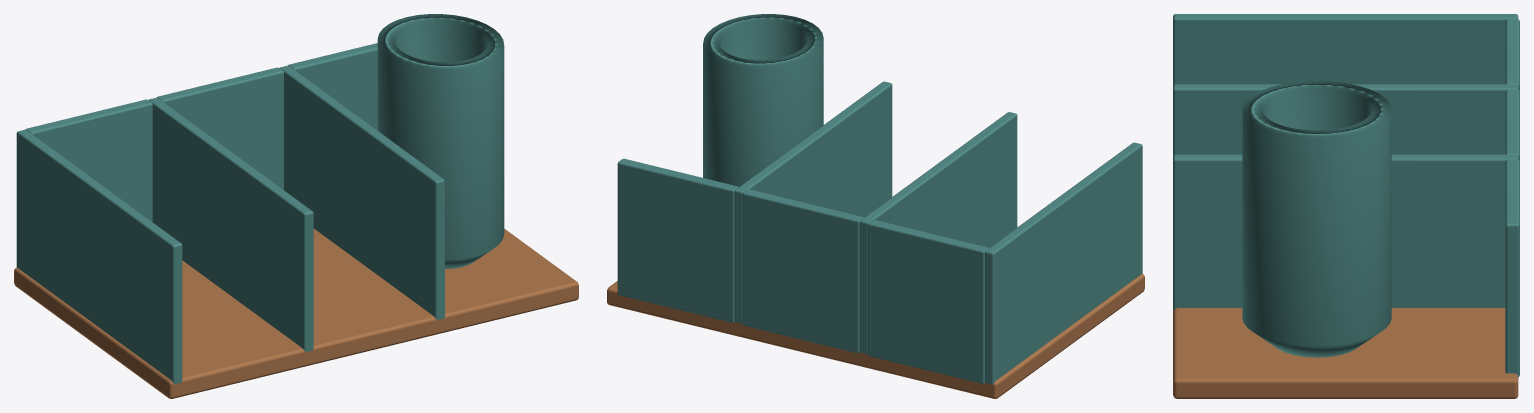
File: wp-organiseur-de-bureau.glb
The picture shows the model from 3 angles, left to right: view 1: azimuth 30°, elevation 25°; view 2: azimuth 150°, elevation 25°; view 3: azimuth 270°, elevation 25°; orthographic projection. The views are drawn at different scales.
Visible parts, largest first — view 1: wp-organiseur-de-bureau; view 2: wp-organiseur-de-bureau; view 3: wp-organiseur-de-bureau.
Part boxes in pixels (x1,y1,x2,y2): wp-organiseur-de-bureau: (14,14,578,398); wp-organiseur-de-bureau: (607,14,1144,398); wp-organiseur-de-bureau: (1173,14,1519,398).
Size of the model in its own units: 0.3 by 0.16 by 0.2.
